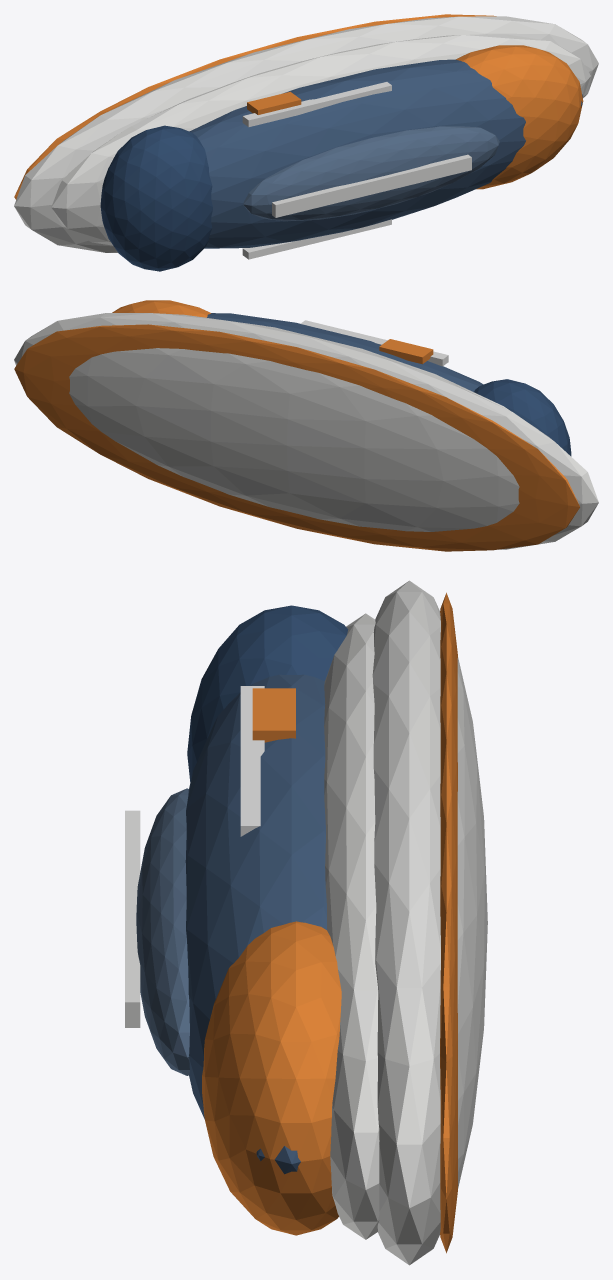
The model's file is sample-sneaker.glb.
The picture shows the model from 3 angles, top to bottom: view 1: azimuth 30°, elevation 25°; view 2: azimuth 150°, elevation 25°; view 3: azimuth 270°, elevation 25°; orthographic projection. The views are drawn at different scales.
Visible parts, largest first — view 1: navy_mesh_upper, rubber_sole, midsole, heel_cup, tongue, orange_toe_cap, orange_outsole_edge, side_logo_patch, lace_3, lace_4, lace_0, stripe_1_0 (+6 smaller); view 2: rubber_sole, orange_outsole_edge, heel_cup, navy_mesh_upper, orange_toe_cap, side_logo_patch, midsole, stripe_1_0; view 3: rubber_sole, orange_toe_cap, navy_mesh_upper, midsole, tongue, orange_outsole_edge, heel_cup, side_logo_patch, stripe_1_0, stripe_1_1, lace_0.
Part boxes in pixels (left/top/right/bottom): navy_mesh_upper: left=189, top=59, right=582, bottom=248; rubber_sole: left=14, top=16, right=598, bottom=252; midsole: left=51, top=34, right=590, bottom=245; heel_cup: left=100, top=125, right=212, bottom=271; tongue: left=243, top=126, right=499, bottom=221; orange_toe_cap: left=456, top=45, right=583, bottom=189; orange_outsole_edge: left=14, top=14, right=496, bottom=199; side_logo_patch: left=247, top=91, right=301, bottom=114; lace_3: left=310, top=184, right=358, bottom=208; lace_4: left=272, top=192, right=317, bottom=217; lace_0: left=423, top=154, right=471, bottom=179; stripe_1_0: left=320, top=82, right=391, bottom=107; rubber_sole: left=14, top=313, right=598, bottom=549; orange_outsole_edge: left=14, top=324, right=579, bottom=551; heel_cup: left=474, top=379, right=571, bottom=456; navy_mesh_upper: left=207, top=313, right=483, bottom=391; orange_toe_cap: left=112, top=300, right=210, bottom=317; side_logo_patch: left=379, top=339, right=433, bottom=364; midsole: left=267, top=326, right=536, bottom=428; stripe_1_0: left=300, top=320, right=372, bottom=340; rubber_sole: left=372, top=580, right=487, bottom=1265; orange_toe_cap: left=202, top=921, right=341, bottom=1235; navy_mesh_upper: left=185, top=674, right=326, bottom=1174; midsole: left=324, top=613, right=379, bottom=1239; tongue: left=136, top=788, right=189, bottom=1075; orange_outsole_edge: left=440, top=592, right=457, bottom=1253; heel_cup: left=187, top=605, right=348, bottom=781; side_logo_patch: left=252, top=688, right=295, bottom=742; stripe_1_0: left=240, top=767, right=260, bottom=836; stripe_1_1: left=240, top=723, right=264, bottom=787; lace_0: left=125, top=958, right=140, bottom=1027.
Size of the model in its own units: 3.1 by 0.96 by 0.8325.
